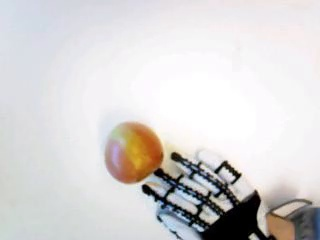apple: (103, 124, 160, 184)
hand: (144, 150, 267, 238)
